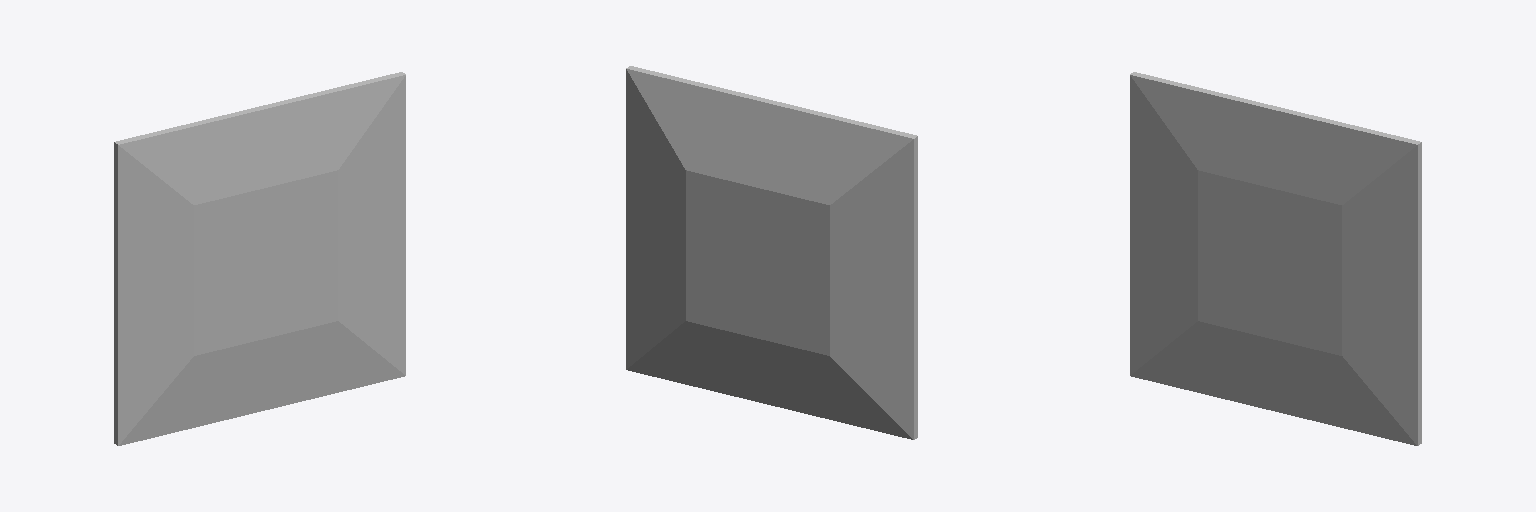
Rendered from 0205_3D_4Board.obj.
The picture shows the model from 3 angles: view 1: azimuth 30°, elevation 25°; view 2: azimuth 150°, elevation 25°; view 3: azimuth 330°, elevation 25°; orthographic projection.
Parts seen in each view (by area): view 1: 立方体; view 2: 立方体; view 3: 立方体.
Part boxes in pixels (x1,y1,x2,y2): 立方体: (114, 72, 405, 445); 立方体: (626, 66, 917, 439); 立方体: (1130, 72, 1421, 445).
Bounding box in the file's own units: 2 × 2 × 0.24.